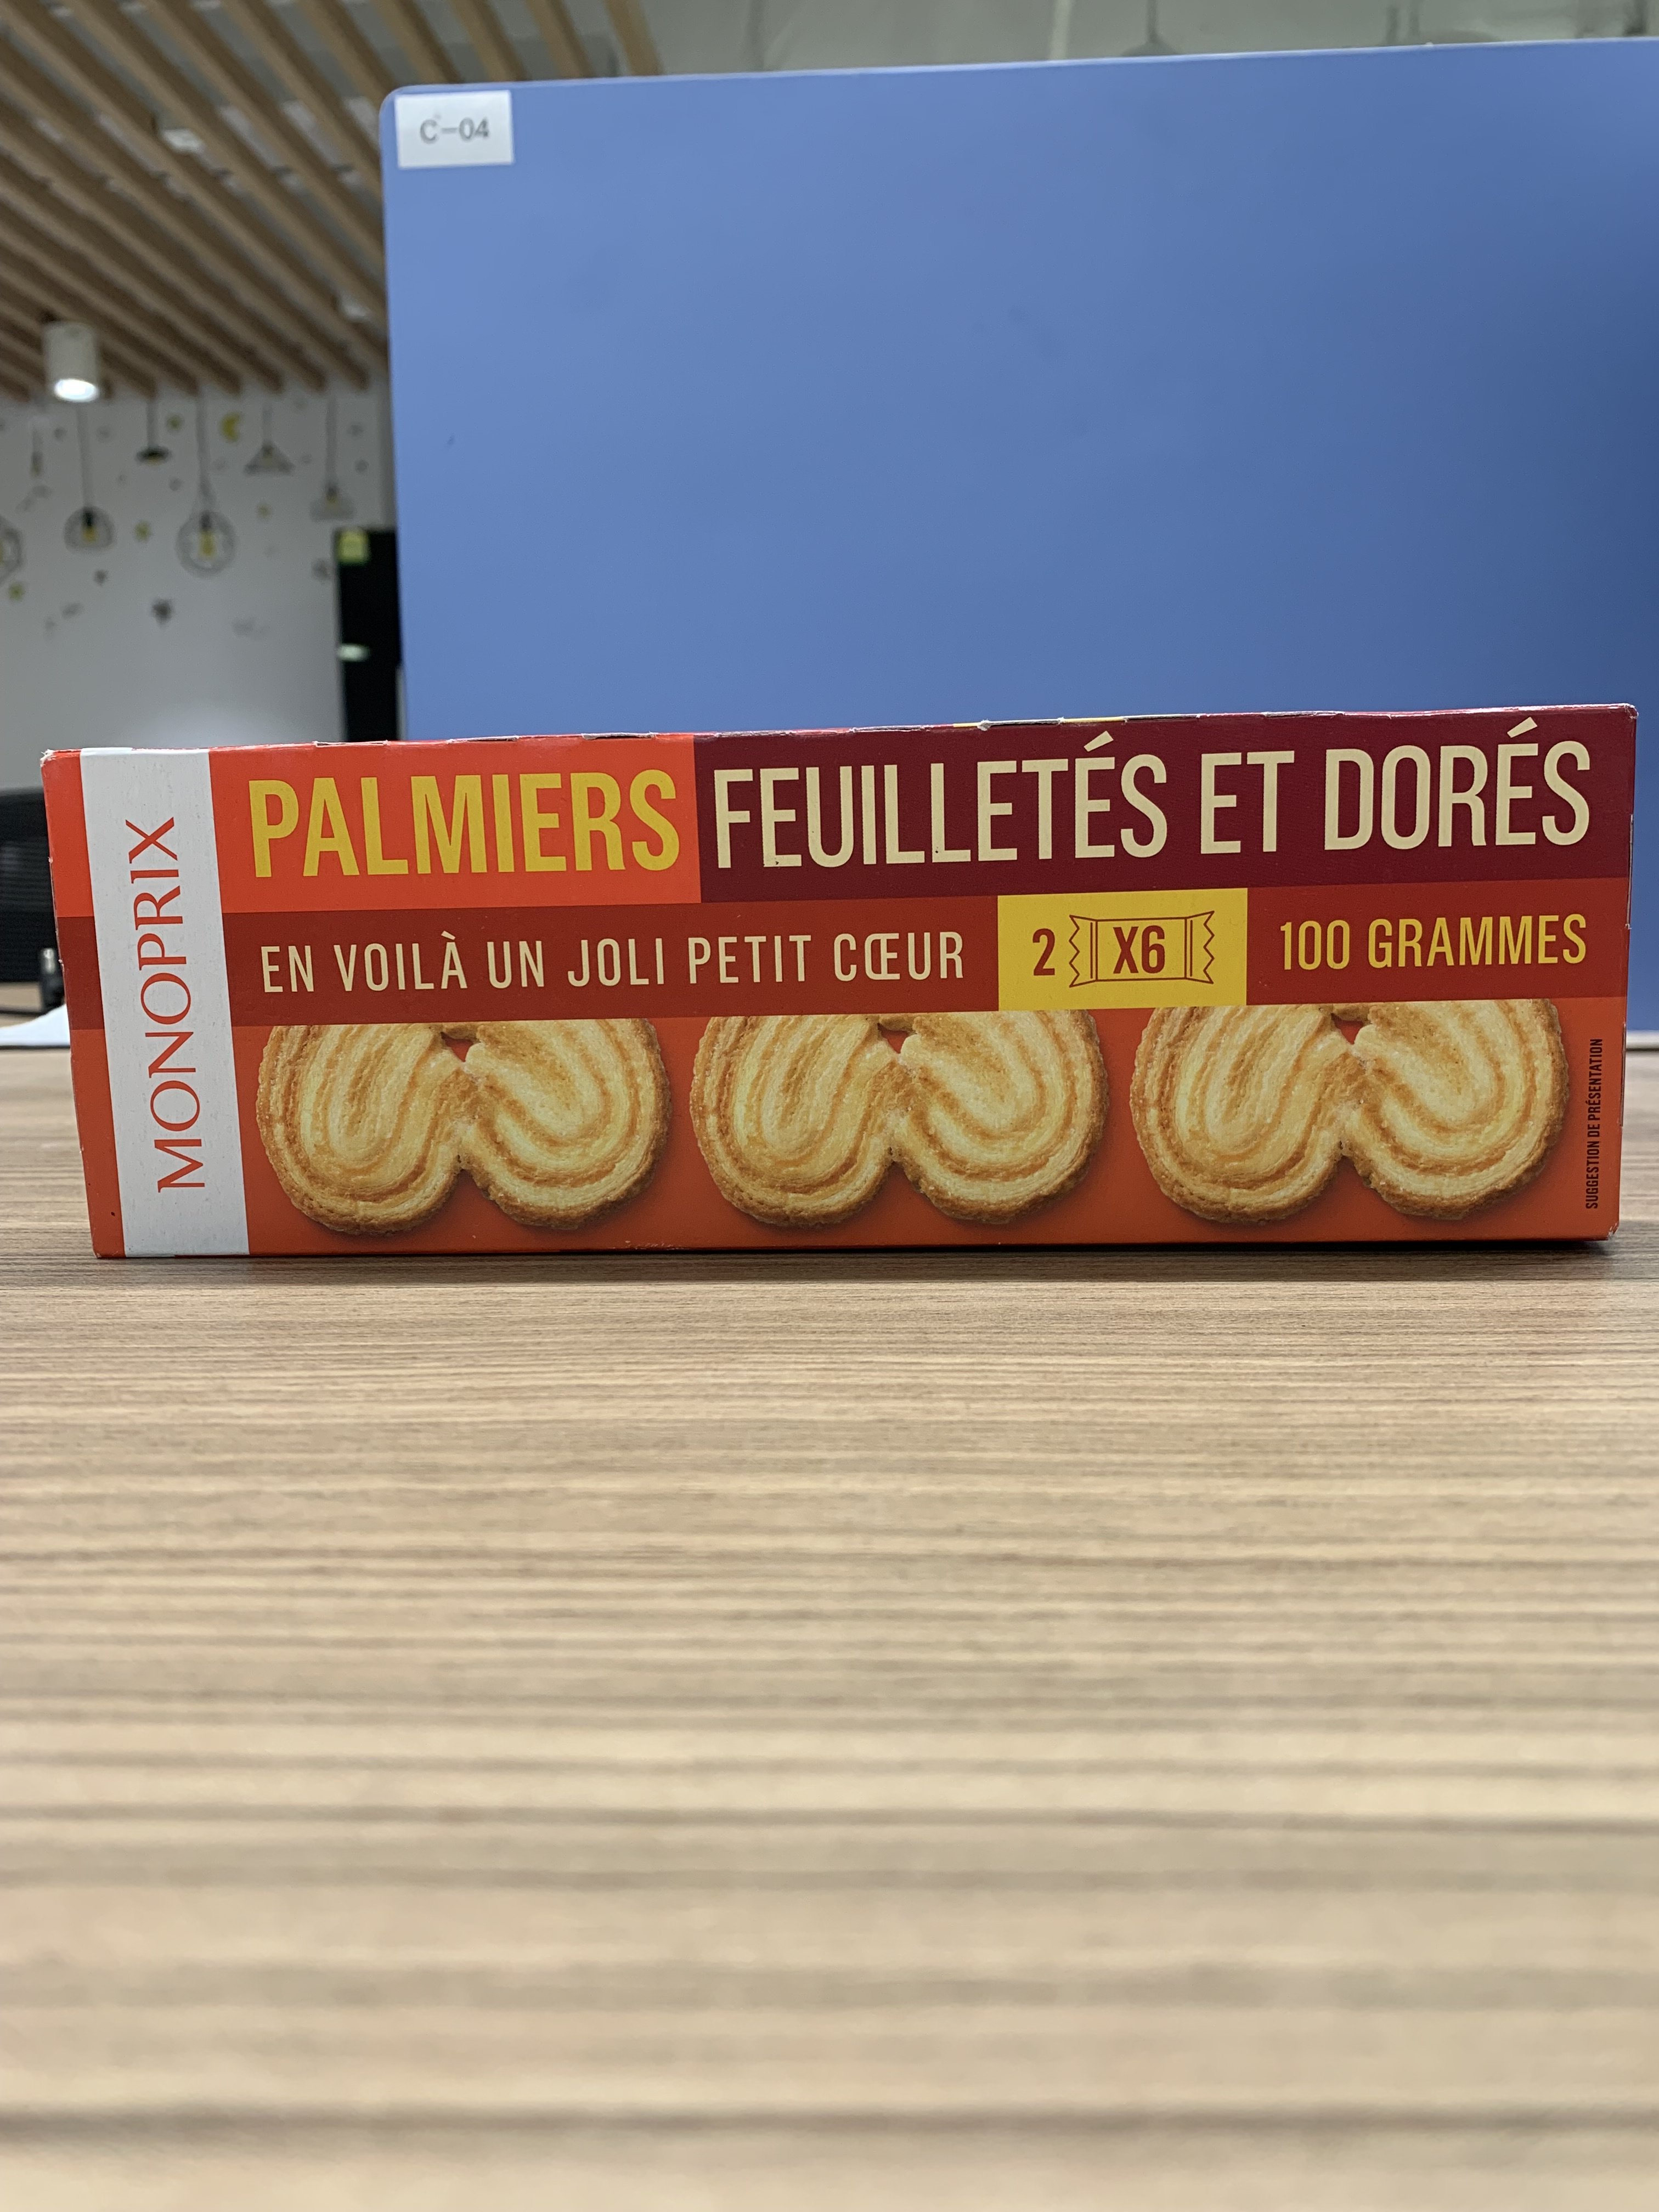cookies: (28, 691, 1643, 1275)
